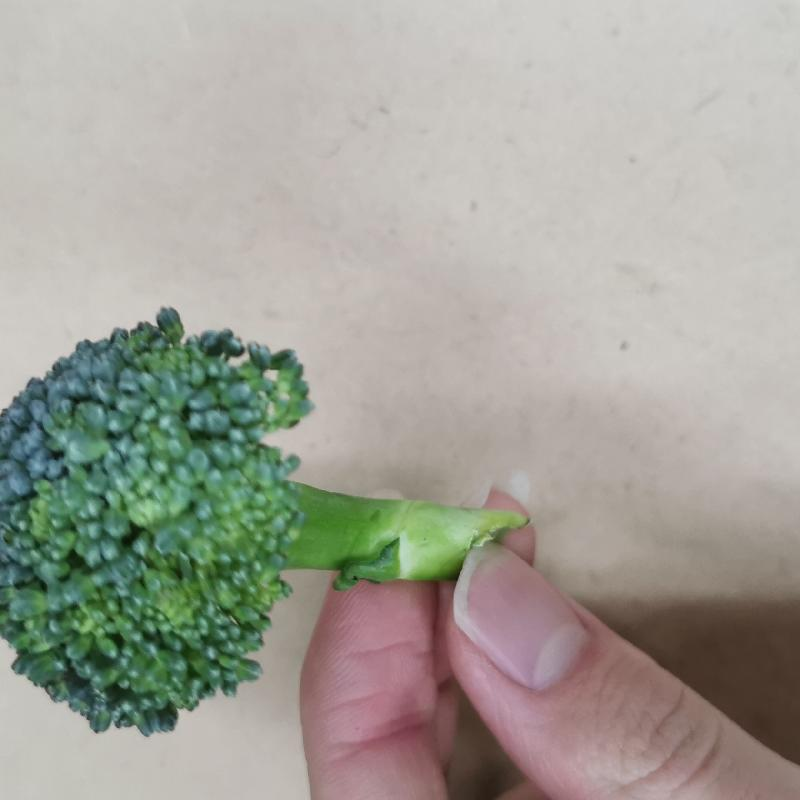broccoli: (6, 310, 534, 737)
